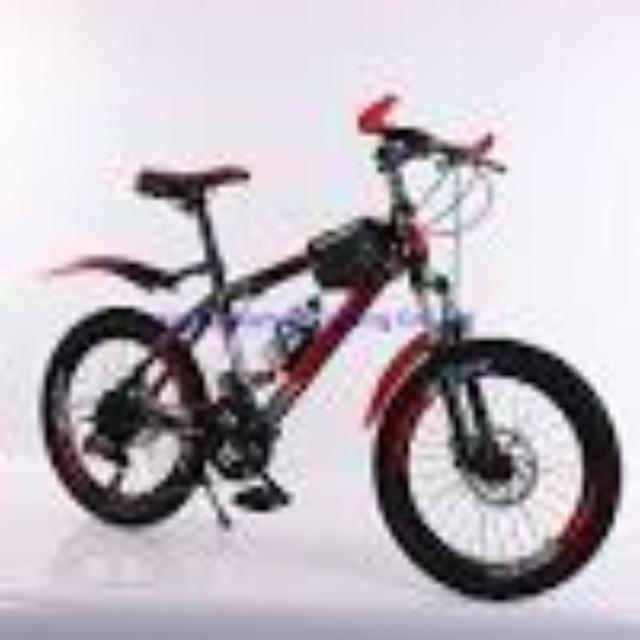obstacle: (28, 102, 640, 584)
